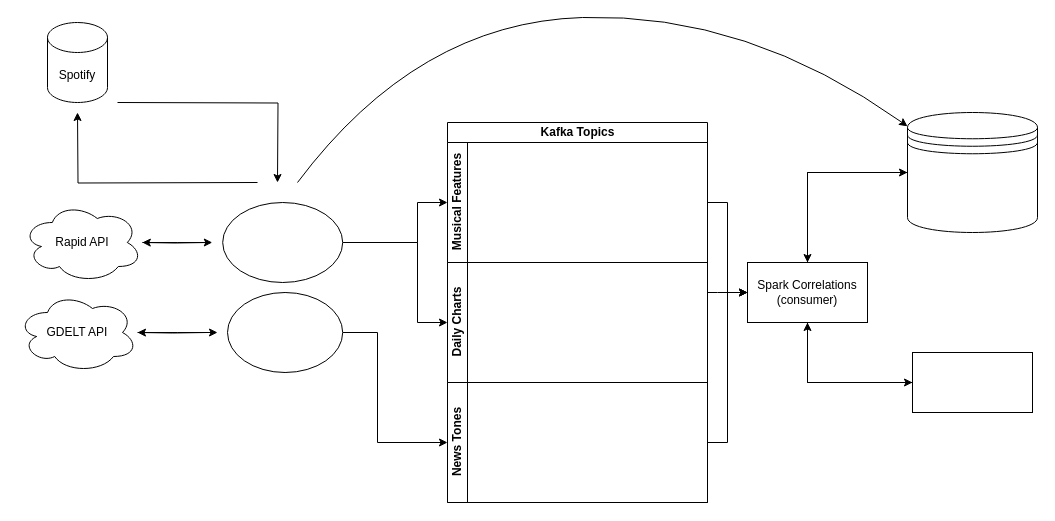
Image size: 1055x521. Some labels were removed from this diagram. The centre of each missing label's shape, as x and y in pixels:
"Data Warehouse" goes at [972,172].
"Frontend Visualization" goes at [972,382].
"Producer 1 Newsdata" goes at [282,242].
"Producer 2 Newsdata" goes at [284,332].
